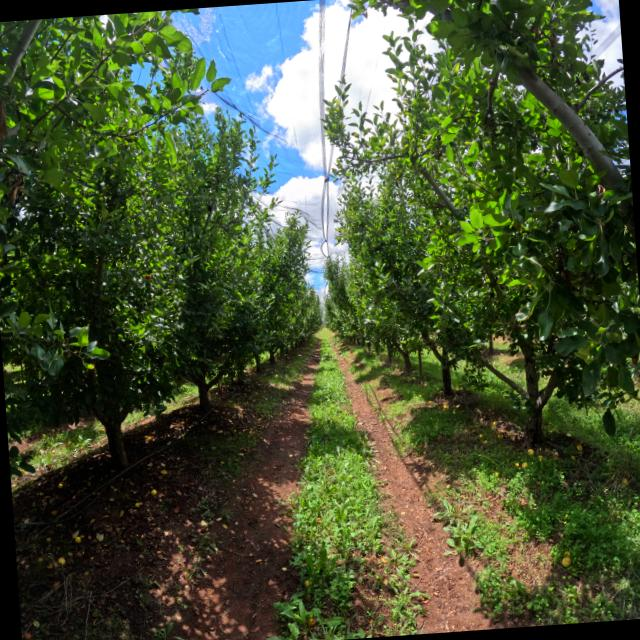-FireBlight-: (10, 164, 26, 209), (0, 88, 13, 141)
